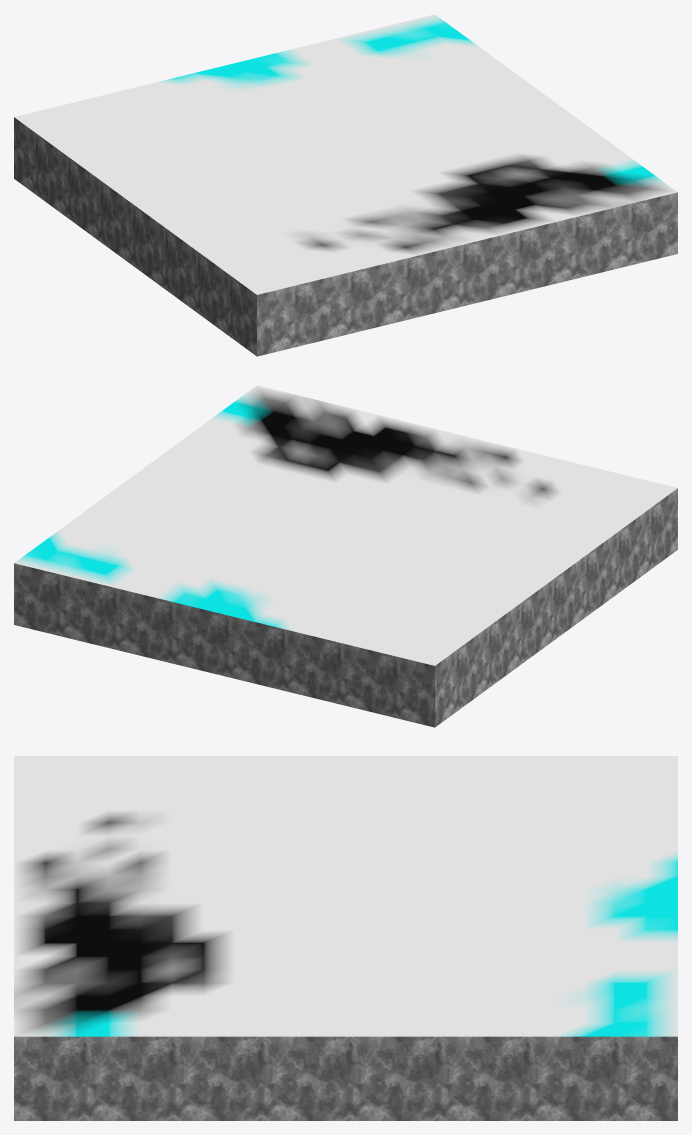
The picture shows the model from 3 angles, top to bottom: view 1: azimuth 30°, elevation 25°; view 2: azimuth 150°, elevation 25°; view 3: azimuth 270°, elevation 25°; orthographic projection. The views are drawn at different scales.
Visible parts, largest first — view 1: SM_floor_module; view 2: SM_floor_module; view 3: SM_floor_module.
Boxes of the visible parts, x1,y1,x2,y2 form: SM_floor_module: [14, 14, 677, 356]; SM_floor_module: [14, 385, 677, 727]; SM_floor_module: [14, 756, 677, 1120].
Bounding box in the file's own units: 3000 × 3000 × 420.
Materials: 2 (1 with a texture image).
